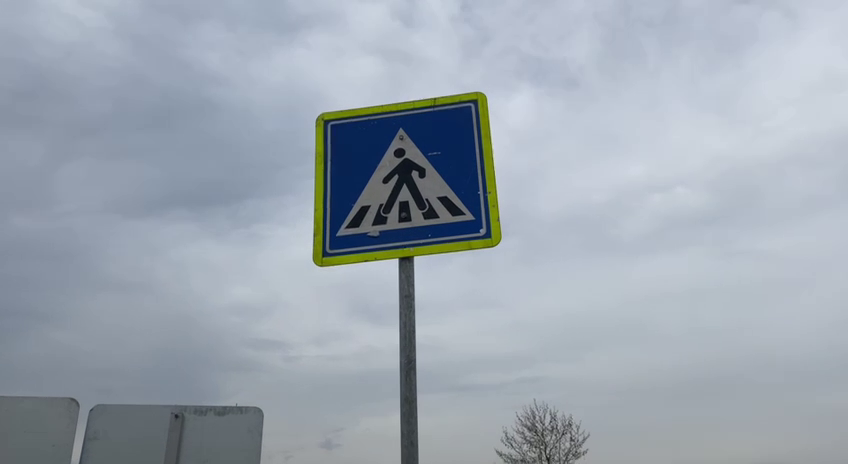pedestrianCrossing: (311, 91, 503, 273)
